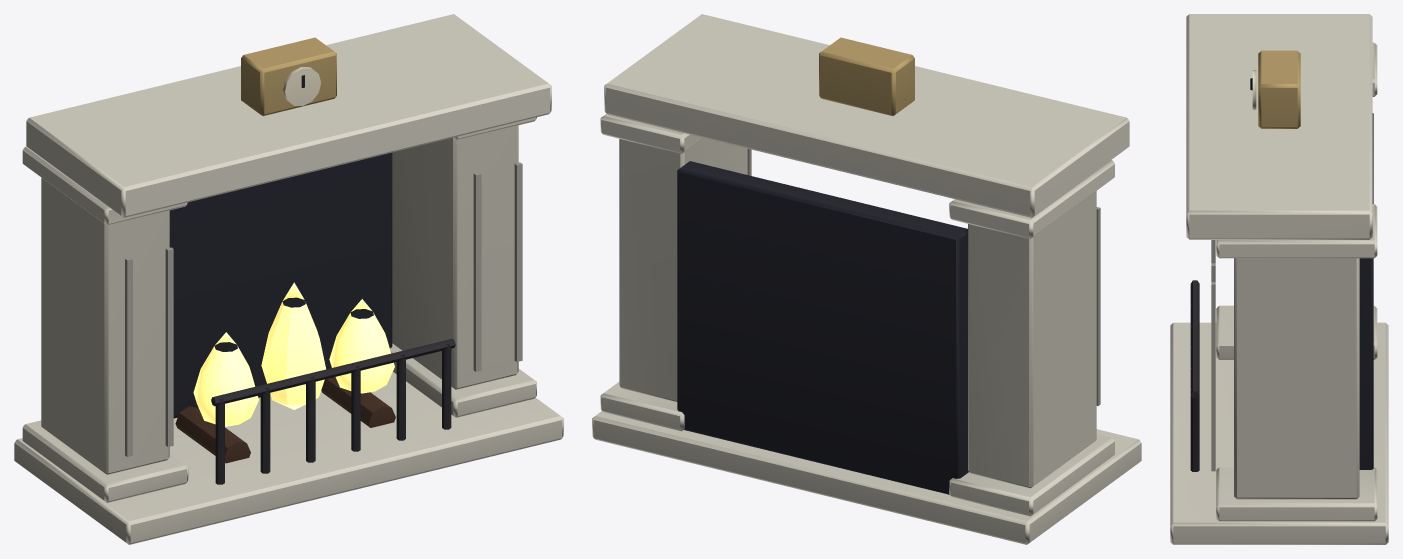
File: fireplace_grand.glb
3 renders of one model, left to right at view 1: azimuth 30°, elevation 25°; view 2: azimuth 150°, elevation 25°; view 3: azimuth 270°, elevation 25°, orthographic. The views are drawn at different scales.
Parts seen in each view (by area): view 1: fireplace_grand, flame; view 2: fireplace_grand; view 3: fireplace_grand.
Part boxes in pixels (x1,y1,x2,y2): fireplace_grand: (14,14,563,544); flame: (193,282,394,426); fireplace_grand: (592,14,1141,544); fireplace_grand: (1170,14,1388,544).
Size of the model in its own units: 1.93 by 1.68 by 0.88.
